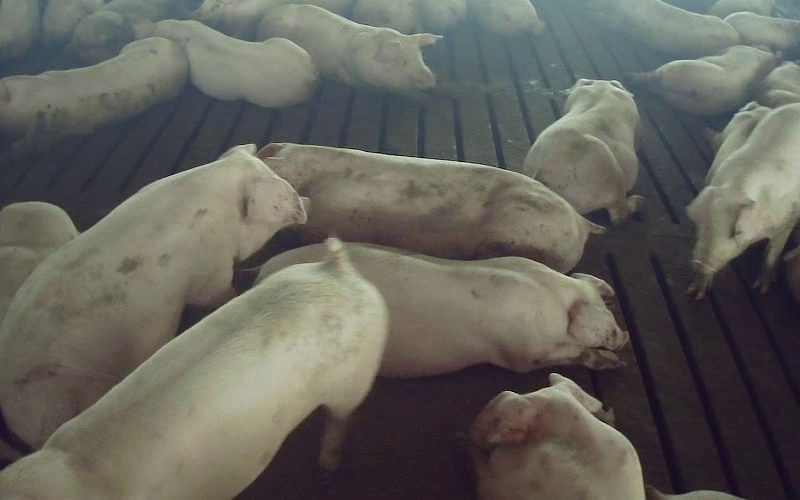pig: (0, 242, 387, 499), (0, 145, 304, 447), (259, 143, 601, 272), (470, 373, 644, 499), (688, 103, 799, 298), (0, 37, 188, 136), (523, 79, 641, 223), (134, 19, 317, 107), (258, 5, 438, 91), (632, 45, 775, 114)
